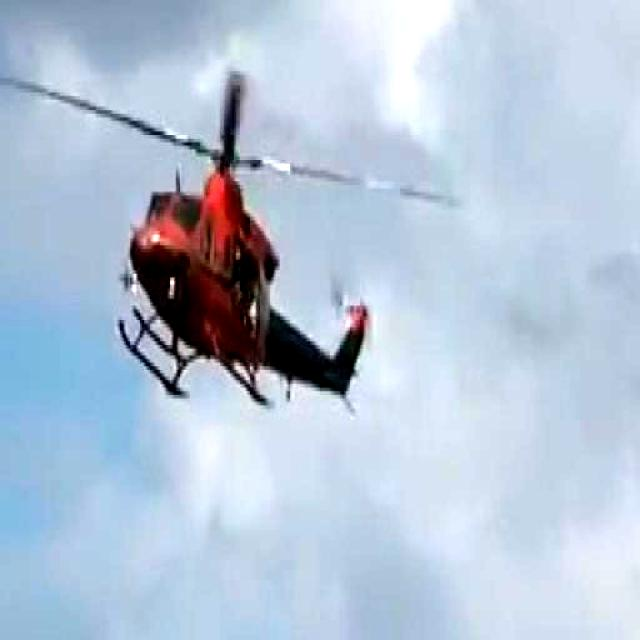drone: (0, 40, 471, 424)
